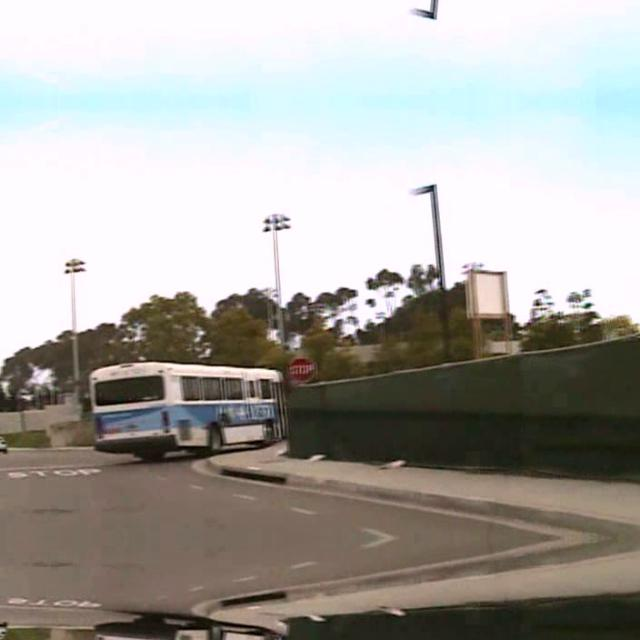stop: (286, 354, 314, 382)
